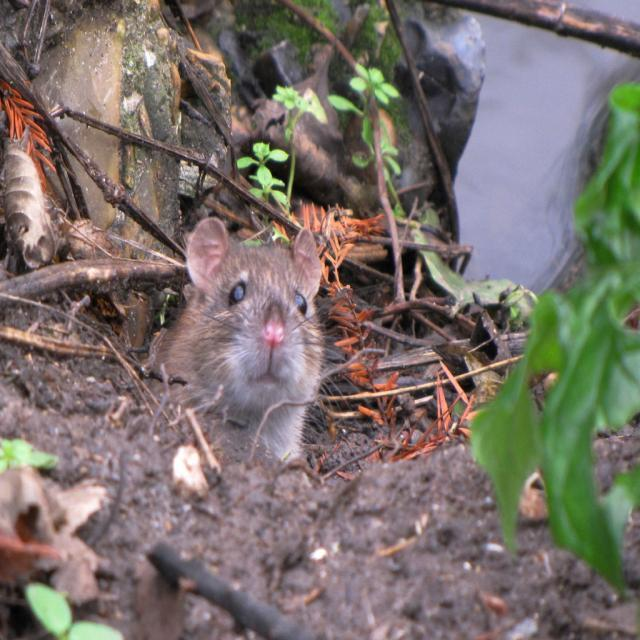rat: (144, 216, 340, 464)
